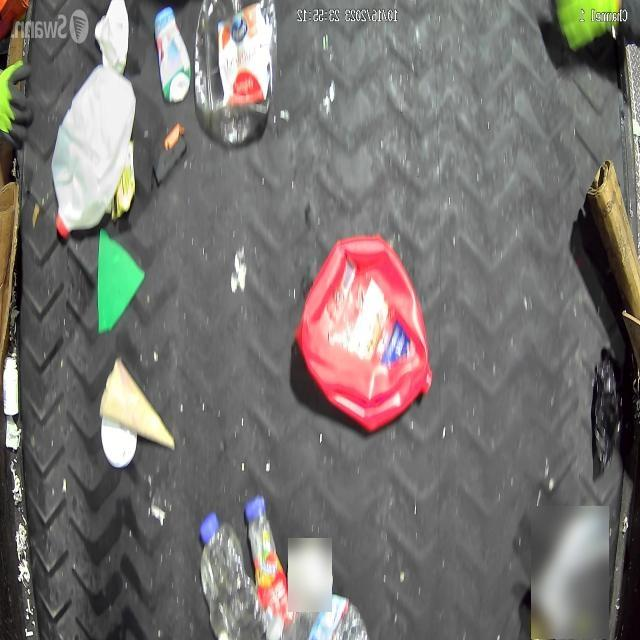milk_jug: (52, 66, 134, 238)
non_white_jug: (294, 236, 434, 430), (196, 0, 276, 149)
plastic_bottle: (198, 512, 268, 640), (244, 494, 290, 638)
